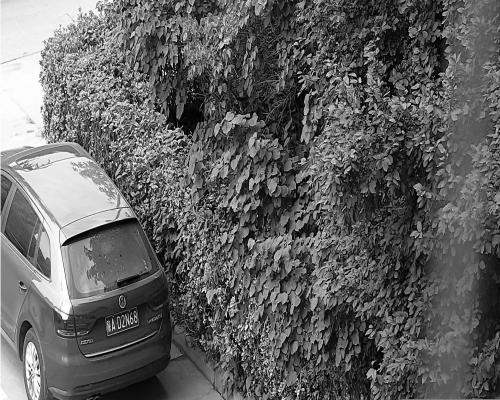Carplate: (104, 306, 143, 340)
